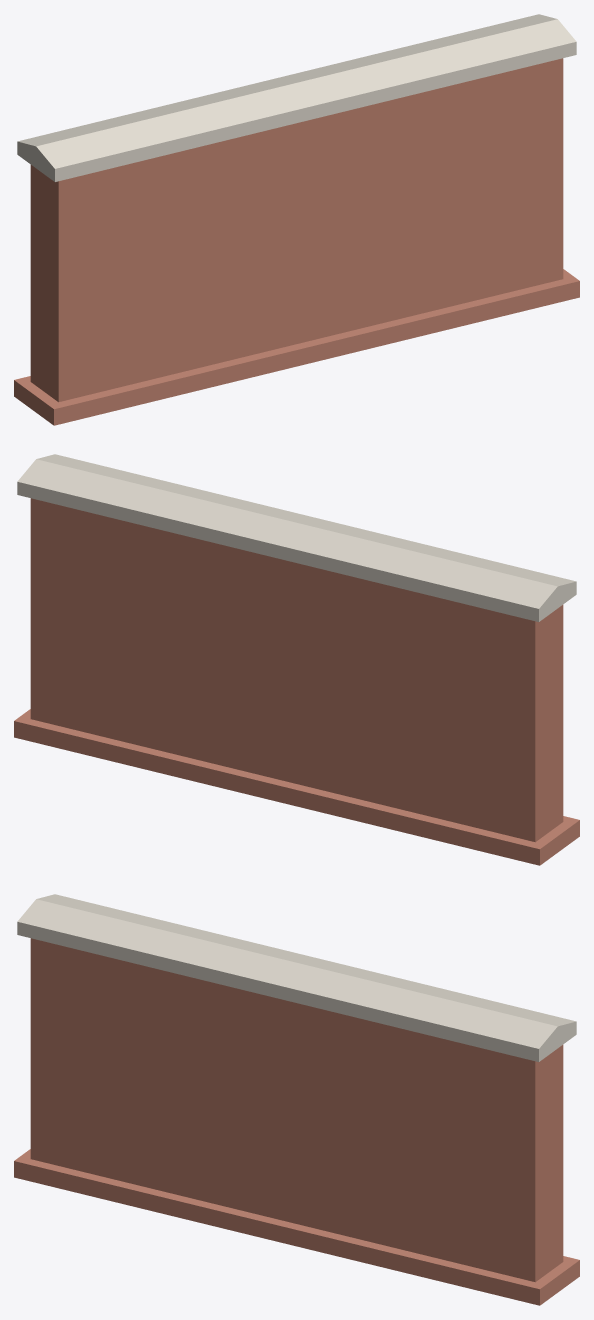
Rendered from wall.low.glb.
3 renders of one model, top to bottom at view 1: azimuth 30°, elevation 25°; view 2: azimuth 150°, elevation 25°; view 3: azimuth 330°, elevation 25°, orthographic.
Parts seen in each view (by area): view 1: building_wall; view 2: building_wall; view 3: building_wall.
Boxes of the visible parts, bbox=[...] form: building_wall: bbox=[14, 14, 579, 425]; building_wall: bbox=[14, 454, 579, 865]; building_wall: bbox=[14, 894, 579, 1305].
Bounding box in the file's own units: 2.5 × 1.2 × 0.3301.
